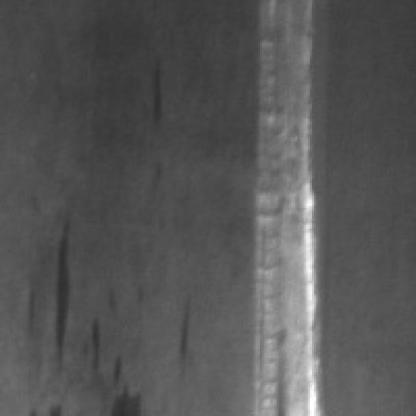inclusion: (85, 314, 144, 414), (44, 210, 77, 366), (170, 287, 196, 368), (142, 58, 168, 133)
scratches: (248, 0, 320, 412)
